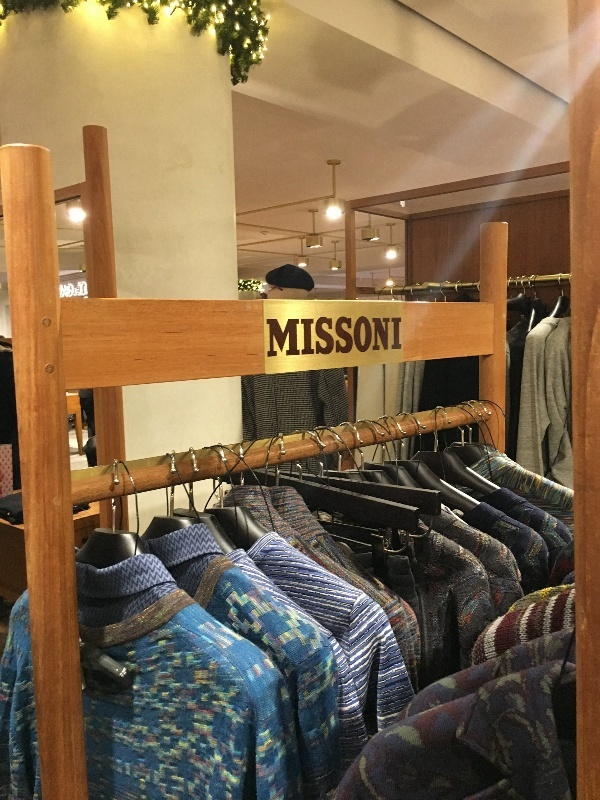text: (273, 316, 288, 359), (289, 316, 304, 359), (305, 316, 320, 359), (321, 316, 336, 359), (337, 316, 352, 359), (353, 316, 368, 359), (369, 316, 384, 359), (385, 316, 400, 359), (65, 281, 80, 299), (266, 316, 272, 359), (81, 281, 89, 299), (60, 281, 64, 299), (401, 316, 402, 359)
